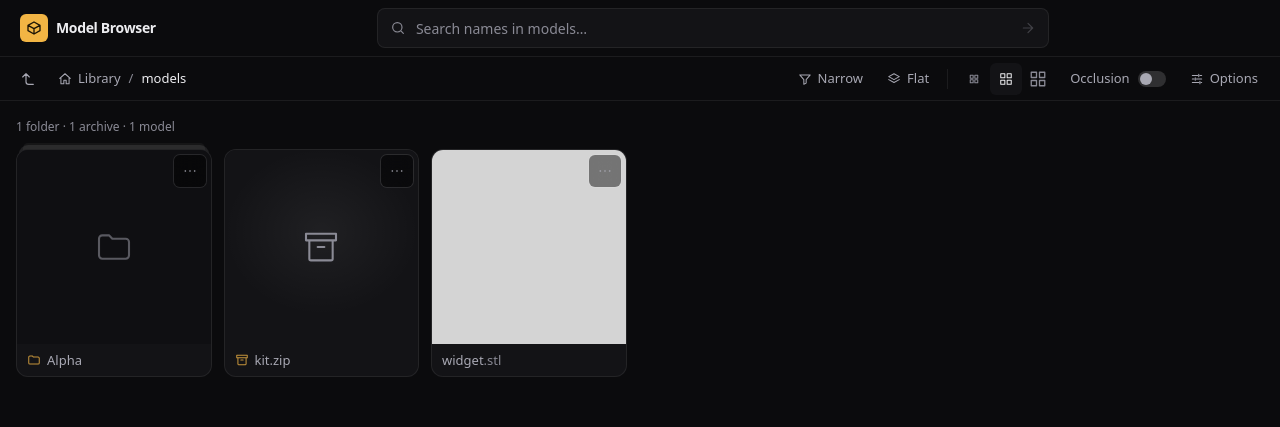
Test: what a launch does, and what it does not › reports a failed chooser as its own failure, naming no application
Press the mouse on the button "widget.stl" at (529, 263), box [431,149,626,377]
Right-click the button "widget.stl" at (529, 263), box [431,149,626,377]
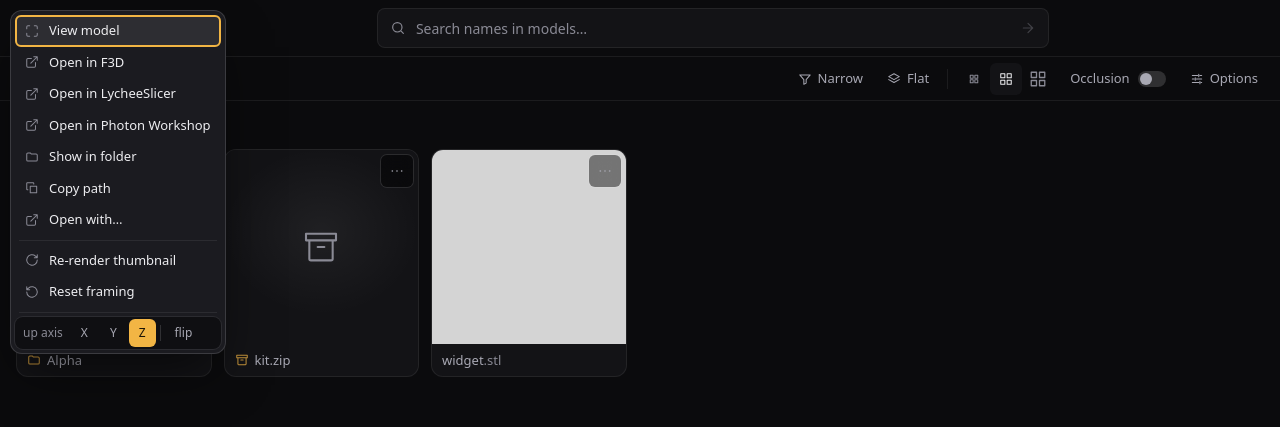
Click the menu item "Open with…" at (118, 220), box [15,204,220,236]
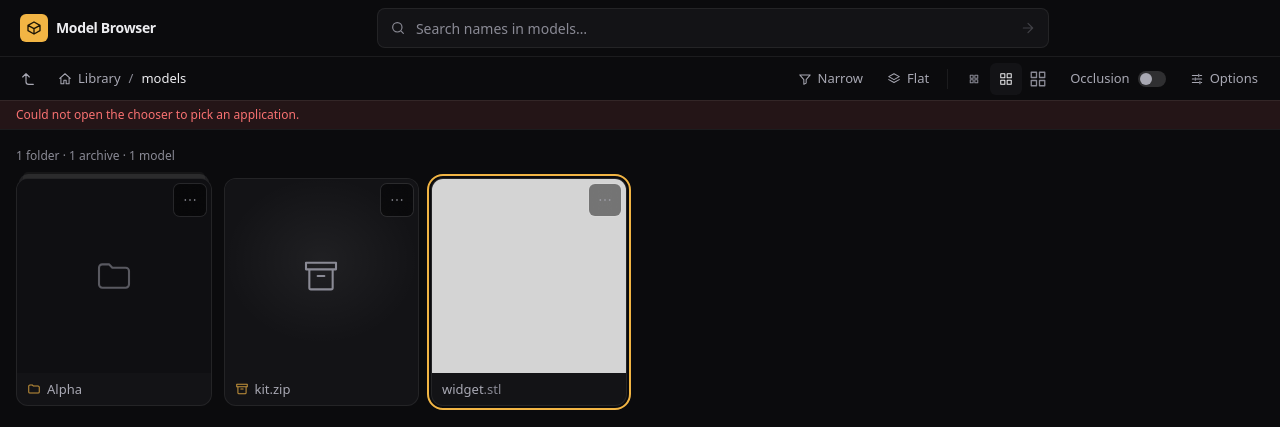
expect the message "Could not open the chooser to pick an application." is shown: met, box [0,100,1279,129]
